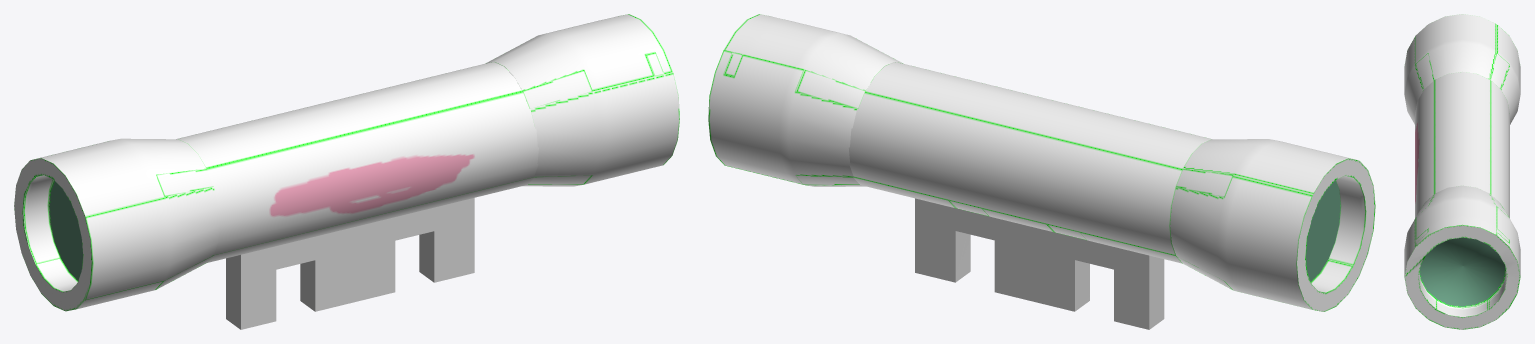
The model's file is viewer.FBX.
The picture shows the model from 3 angles, left to right: view 1: azimuth 30°, elevation 25°; view 2: azimuth 150°, elevation 25°; view 3: azimuth 270°, elevation 25°; orthographic projection. The views are drawn at different scales.
Visible parts, largest first — view 1: viewer, viewerBehind, viewerFront, anchorBar; view 2: viewer, viewerBehind, viewerFront, anchorBar; view 3: viewerFront, viewer, viewerBehind.
Boxes of the visible parts, x1,y1,x2,y2 form: viewer: [176, 62, 538, 262]; viewerBehind: [14, 138, 219, 311]; viewerFront: [485, 14, 679, 186]; anchorBar: [226, 198, 474, 329]; viewer: [848, 62, 1211, 263]; viewerBehind: [1170, 139, 1375, 311]; viewerFront: [708, 14, 902, 186]; anchorBar: [915, 198, 1164, 329]; viewerFront: [1404, 185, 1520, 329]; viewer: [1415, 72, 1509, 218]; viewerBehind: [1404, 14, 1520, 124].
Size of the model in its own units: 45.3 by 15.11 by 10.5.
1 material, 1 textured.
